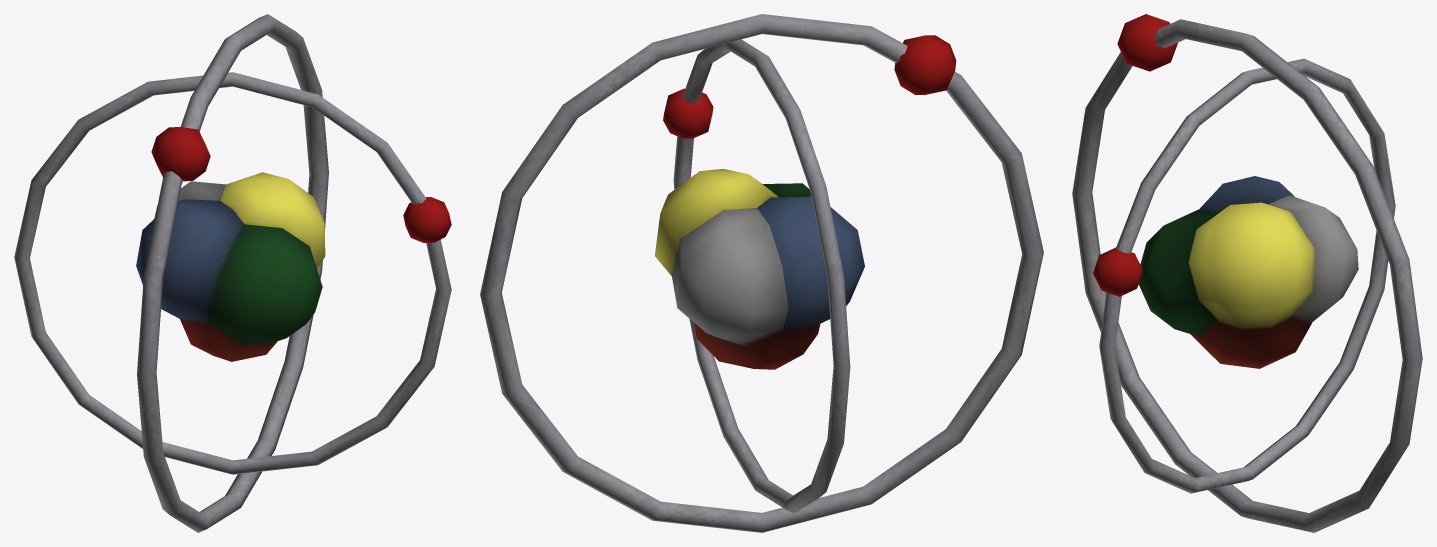
The model's file is infotron_14.obj.
3 views of the same model, side by side, from view 1: azimuth 30°, elevation 25°; view 2: azimuth 150°, elevation 25°; view 3: azimuth 270°, elevation 25° (orthographic). The views are drawn at different scales.
Visible parts, largest first — view 1: unwrapped2, Object09, Object10, Object12, Object11; view 2: Object09, unwrapped2, Object10, Object12, Object11; view 3: unwrapped2, Object09, Object10, Object12, Object11.
Boxes of the visible parts, box(x1,y1,x2,y2) form: unwrapped2: box(136, 172, 325, 361); Object09: box(137, 14, 328, 532); Object10: box(14, 72, 451, 474); Object12: box(151, 127, 210, 181); Object11: box(403, 197, 451, 242); Object09: box(480, 14, 1043, 532); unwrapped2: box(654, 169, 864, 369); Object10: box(673, 39, 850, 513); Object12: box(894, 35, 956, 94); Object11: box(663, 88, 713, 138); unwrapped2: box(1138, 176, 1358, 368); Object09: box(1072, 19, 1422, 532); Object10: box(1099, 58, 1395, 493); Object12: box(1117, 14, 1177, 71); Object11: box(1093, 247, 1143, 296).
Size of the model in its own units: 27.27 by 35.32 by 23.15.
Materials: 1 (1 with a texture image).
